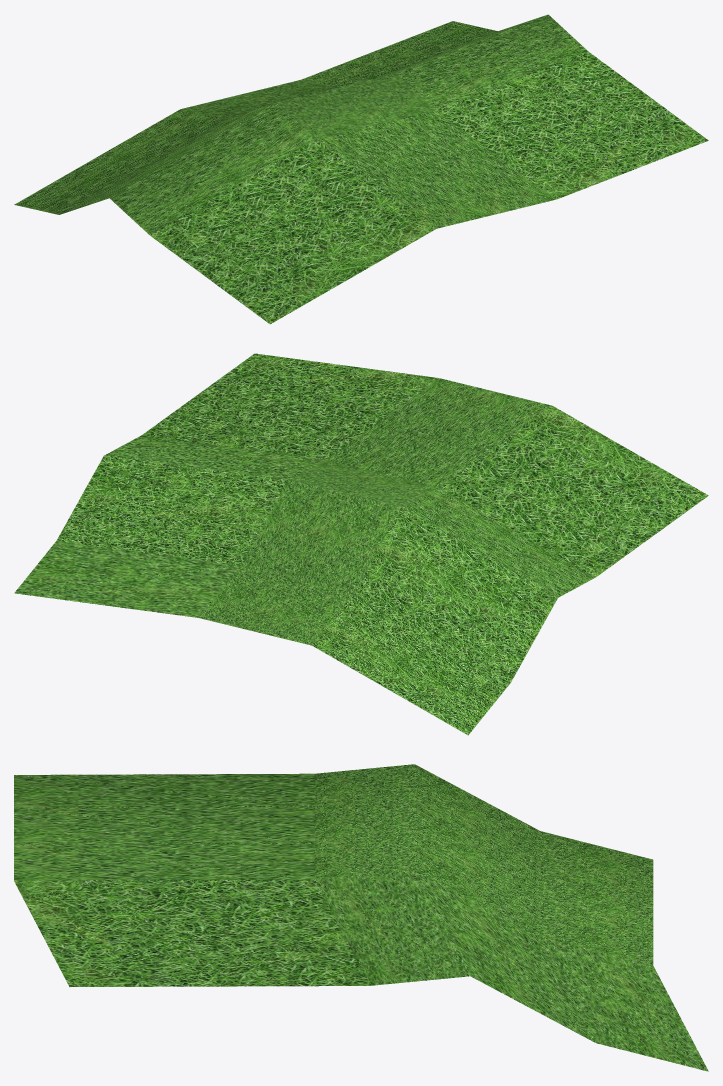
File: glass.obj
3 views of the same model, one above another, from view 1: azimuth 30°, elevation 25°; view 2: azimuth 150°, elevation 25°; view 3: azimuth 270°, elevation 25° (orthographic). The views are drawn at different scales.
Visible parts, largest first — view 1: Plane001; view 2: Plane001; view 3: Plane001.
Part boxes in pixels (x1=…): Plane001: x1=14, y1=14, x2=708, y2=324; Plane001: x1=14, y1=353, x2=708, y2=735; Plane001: x1=14, y1=764, x2=708, y2=1071.
Bounding box in the file's own units: 101 × 27.65 × 106.
